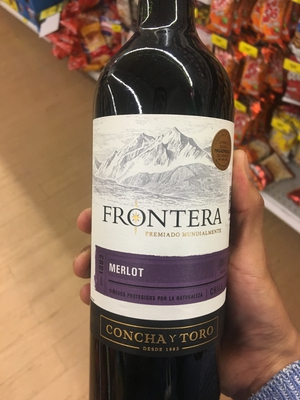frontera merlot: (82, 12, 244, 400)
